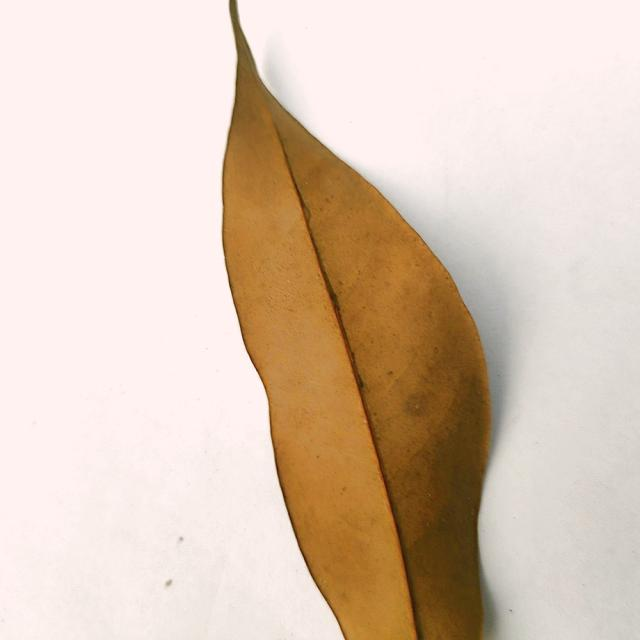Dry_Leaf-Lychee: (221, 0, 493, 639)
